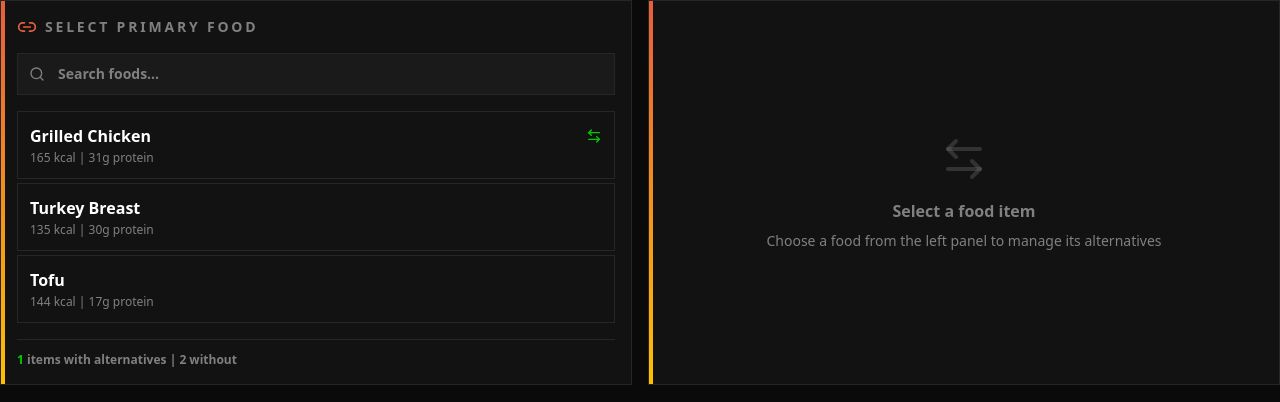
Test: AlternativesLinker › selects primary food when clicked
The image size is (1280, 402).
Click the button "Grilled Chicken 165 kcal | 31g protein": (90, 136) x1=17 y1=111 x2=615 y2=179
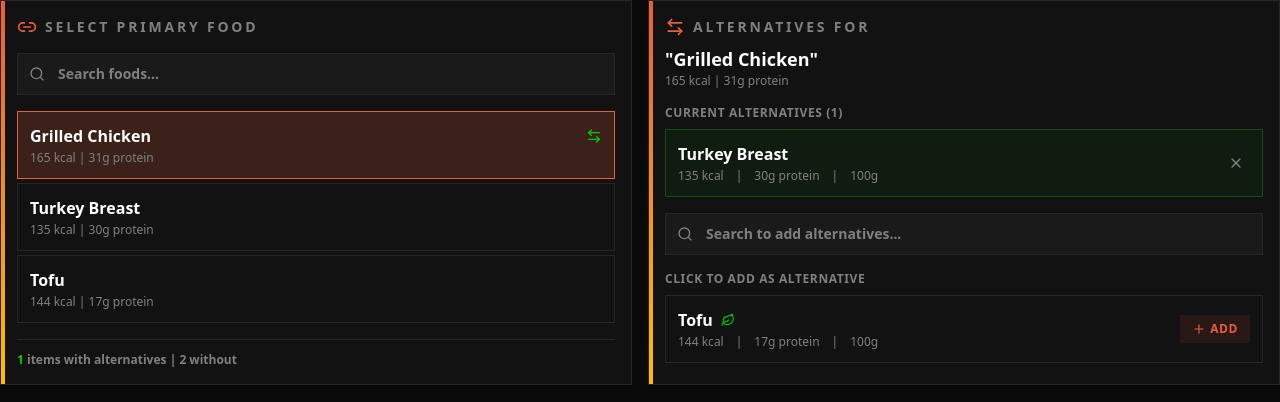
Expected: the text "Alternatives for" is shown, x1=693 y1=17 x2=870 y2=37
Expected: the text "\"Grilled Chicken\"" is shown, x1=665 y1=47 x2=818 y2=71
